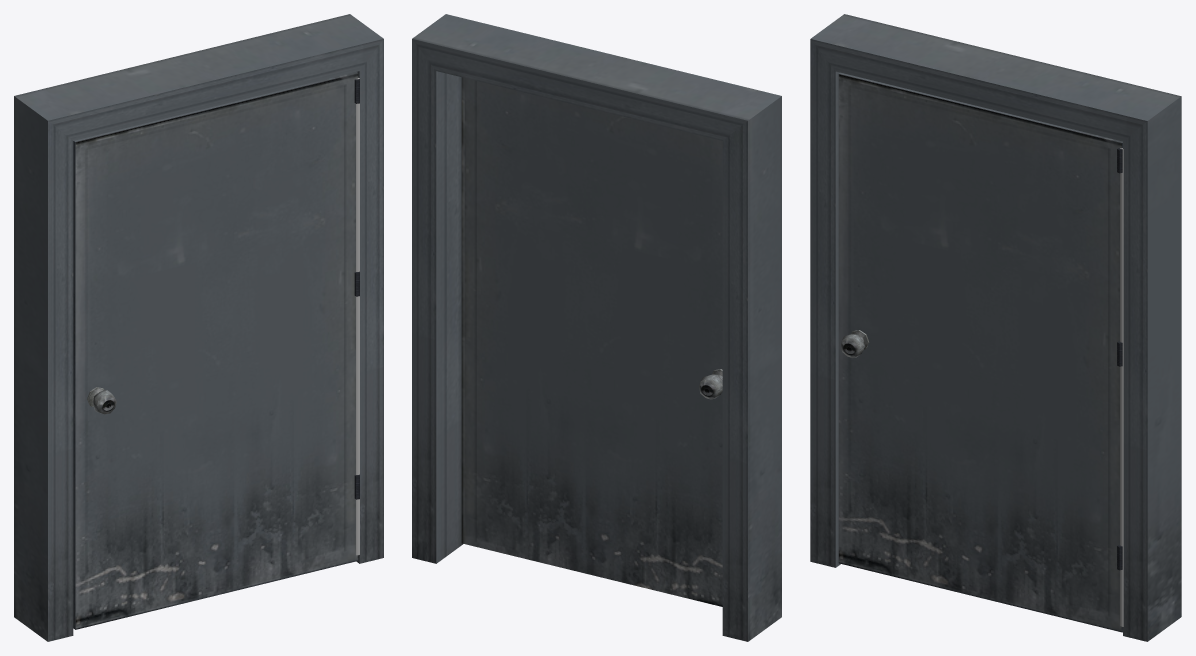
The model's file is door_infected_corridor.dae.
The picture shows the model from 3 angles, left to right: view 1: azimuth 30°, elevation 25°; view 2: azimuth 150°, elevation 25°; view 3: azimuth 330°, elevation 25°; orthographic projection.
Visible parts, largest first — view 1: door, frame, _joint_hinge_door_null_0_120_nocollide_joint1; view 2: door, frame; view 3: door, frame, _joint_hinge_door_null_0_120_nocollide_joint1.
Part boxes in pixels (<box>): door: <box>73,72,359,629</box>; frame: <box>14,14,383,641</box>; _joint_hinge_door_null_0_120_nocollide_joint1: <box>356,78,359,555</box>; door: <box>461,77,722,606</box>; frame: <box>412,14,781,641</box>; door: <box>838,72,1122,632</box>; frame: <box>810,14,1181,641</box>; _joint_hinge_door_null_0_120_nocollide_joint1: <box>1120,148,1123,626</box>.
Size of what is drawn, in the model's own units: 1.5 by 2.22 by 0.3481.
